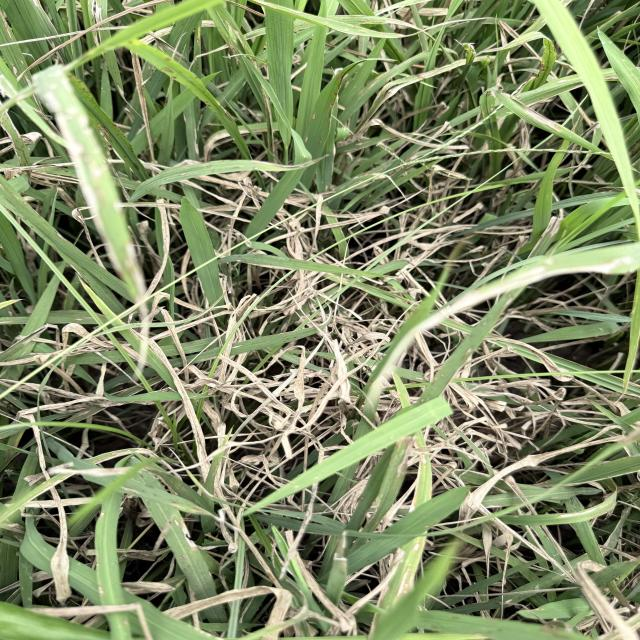Chay bia la: (151, 276, 392, 447), (373, 256, 623, 402), (461, 438, 627, 513), (36, 80, 106, 244)
